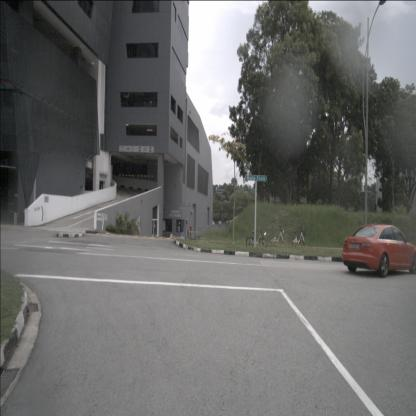vehicle-bicycle: (246, 227, 266, 251), (289, 223, 307, 249), (267, 225, 287, 248)
vehicle-car: (342, 224, 416, 278)
